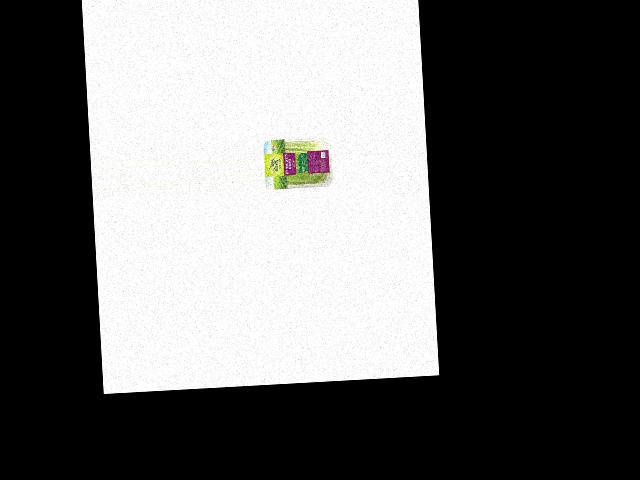lettuce: (267, 135, 333, 189)
